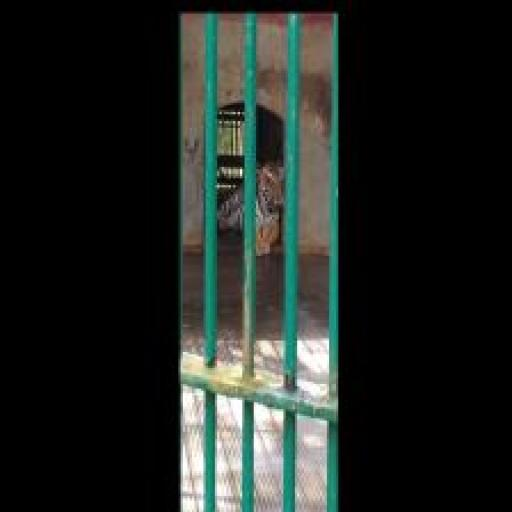Tiger: (217, 156, 288, 260)
